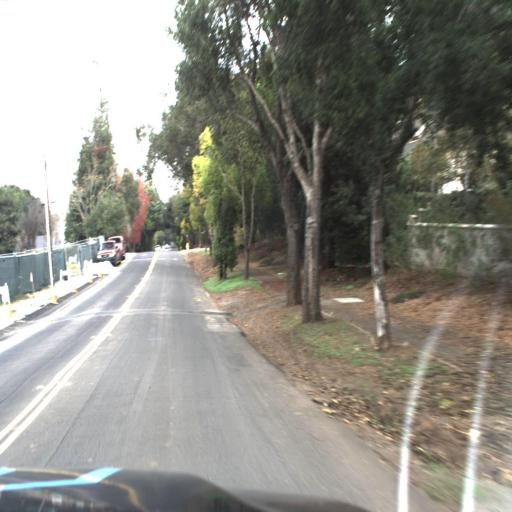car: (93, 236, 117, 266)
